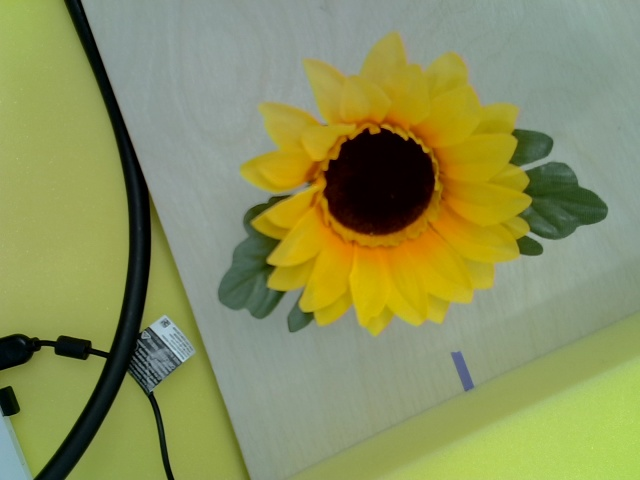해바라기: (246, 41, 527, 330)
